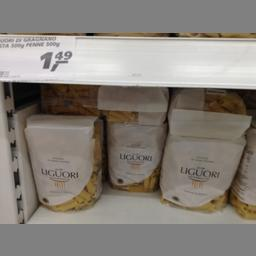pasta: (23, 112, 103, 211), (158, 134, 244, 212), (105, 120, 166, 192)
